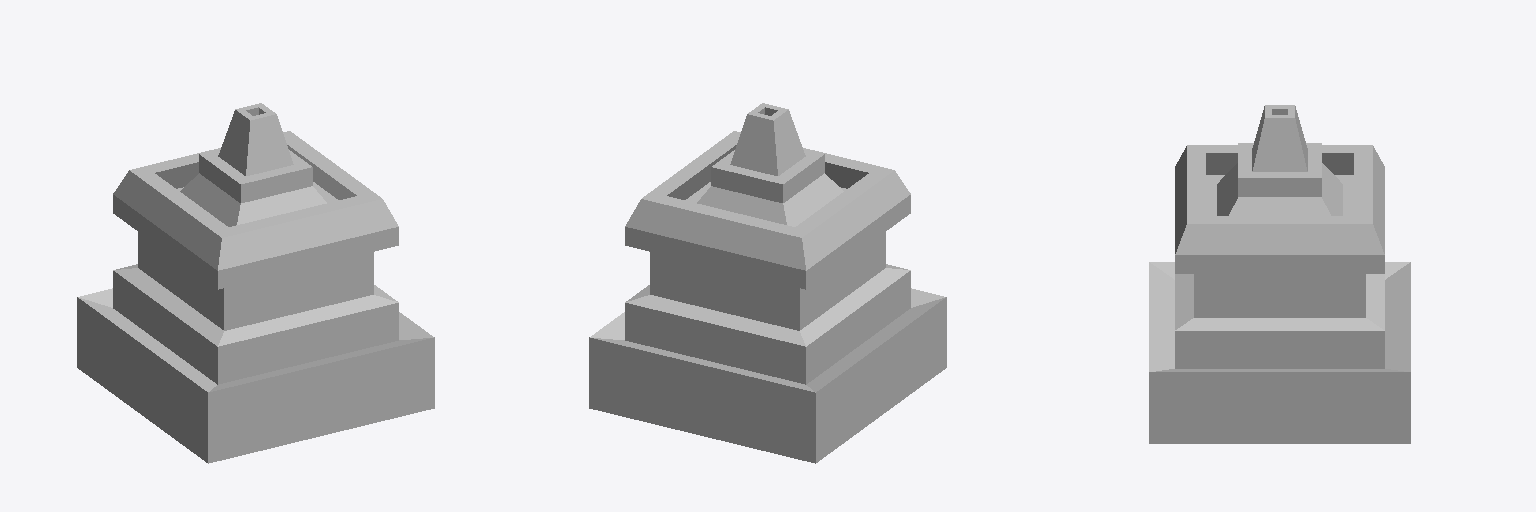
File: Artillery Station.obj
3 renders of one model, left to right at view 1: azimuth 30°, elevation 25°; view 2: azimuth 150°, elevation 25°; view 3: azimuth 270°, elevation 25°, orthographic.
Parts seen in each view (by area): view 1: Artillery_Station_; view 2: Artillery_Station_; view 3: Artillery_Station_.
Boxes of the visible parts, box(x1,y1,x2,y2) form: Artillery_Station_: box(77, 103, 434, 463); Artillery_Station_: box(589, 103, 946, 463); Artillery_Station_: box(1149, 105, 1410, 443).
Size of the model in its own units: 2.73 by 3.32 by 2.73.